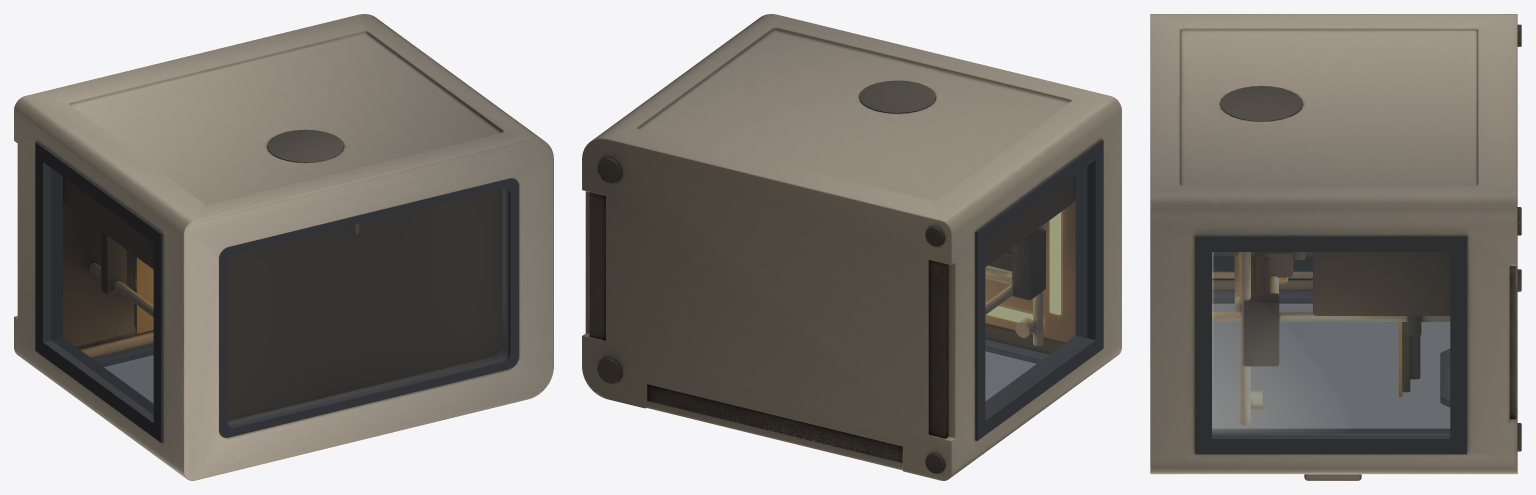
Rendered from deltrol_p2s_source_geometry_pivot_v5_rev2.glb.
The picture shows the model from 3 angles, left to right: view 1: azimuth 30°, elevation 25°; view 2: azimuth 150°, elevation 25°; view 3: azimuth 270°, elevation 25°; orthographic projection. The views are drawn at different scales.
Parts seen in each view (by area): view 1: unibody_shell, top_roof_glass, interior_ceiling_liner, left_glass_window, left_window_gasket, top_rim_outer, interior_floor_tray, interior_left_back_baffle, rear_exhaust_shroud, front_glass_door, bed_heater_block, build_plate (+2 smaller); view 2: unibody_shell, left_glass_window, left_window_gasket, chassis_recessed_plinth, interior_ceiling_liner, interior_left_back_baffle, x_gantry_crossbeam, rear_exhaust_shroud, x_guide_front, front_glass_door, led_bar_left, door_top_rail; view 3: unibody_shell, right_glass_window, front_glass_door, right_window_gasket, interior_rear_electronics_box, right_glass_sheen, x_guide_front, x_gantry_crossbeam, rear_exhaust_shroud, bed_heater_block, chassis_recessed_plinth, left_window_gasket (+4 smaller).
Part boxes in pixels (left/top/right/bottom): unibody_shell: left=14, top=14, right=553, bottom=480; top_roof_glass: left=227, top=188, right=508, bottom=426; interior_ceiling_liner: left=227, top=189, right=501, bottom=420; left_glass_window: left=51, top=168, right=153, bottom=414; left_window_gasket: left=35, top=141, right=163, bottom=442; top_rim_outer: left=219, top=178, right=518, bottom=437; interior_floor_tray: left=63, top=203, right=135, bottom=346; interior_left_back_baffle: left=63, top=177, right=153, bottom=268; rear_exhaust_shroud: left=267, top=129, right=344, bottom=162; front_glass_door: left=100, top=351, right=153, bottom=402; bed_heater_block: left=101, top=231, right=135, bottom=326; build_plate: left=135, top=256, right=153, bottom=333; unibody_shell: left=582, top=14, right=1121, bottom=480; left_glass_window: left=985, top=166, right=1087, bottom=412; left_window_gasket: left=975, top=139, right=1103, bottom=440; chassis_recessed_plinth: left=589, top=192, right=948, bottom=462; interior_ceiling_liner: left=985, top=201, right=1075, bottom=342; interior_left_back_baffle: left=985, top=175, right=1075, bottom=266; x_gantry_crossbeam: left=988, top=229, right=1045, bottom=299; rear_exhaust_shroud: left=859, top=80, right=936, bottom=113; x_guide_front: left=985, top=225, right=1043, bottom=345; front_glass_door: left=985, top=347, right=1039, bottom=400; led_bar_left: left=1049, top=212, right=1060, bottom=314; door_top_rail: left=985, top=339, right=1048, bottom=363; unibody_shell: left=1150, top=14, right=1517, bottom=474; right_glass_window: left=1212, top=252, right=1450, bottom=434; front_glass_door: left=1212, top=299, right=1449, bottom=428; right_window_gasket: left=1195, top=235, right=1466, bottom=454; interior_rear_electronics_box: left=1313, top=252, right=1450, bottom=315; right_glass_sheen: left=1212, top=252, right=1298, bottom=433; x_guide_front: left=1212, top=252, right=1450, bottom=425; x_gantry_crossbeam: left=1243, top=252, right=1291, bottom=365; rear_exhaust_shroud: left=1220, top=86, right=1302, bottom=121; bed_heater_block: left=1402, top=316, right=1421, bottom=392; chassis_recessed_plinth: left=1509, top=266, right=1515, bottom=418; left_window_gasket: left=1212, top=252, right=1312, bottom=271.
Bounding box in the file's own units: 0.469 × 0.3268 × 0.374.
10 materials, 4 textured.
